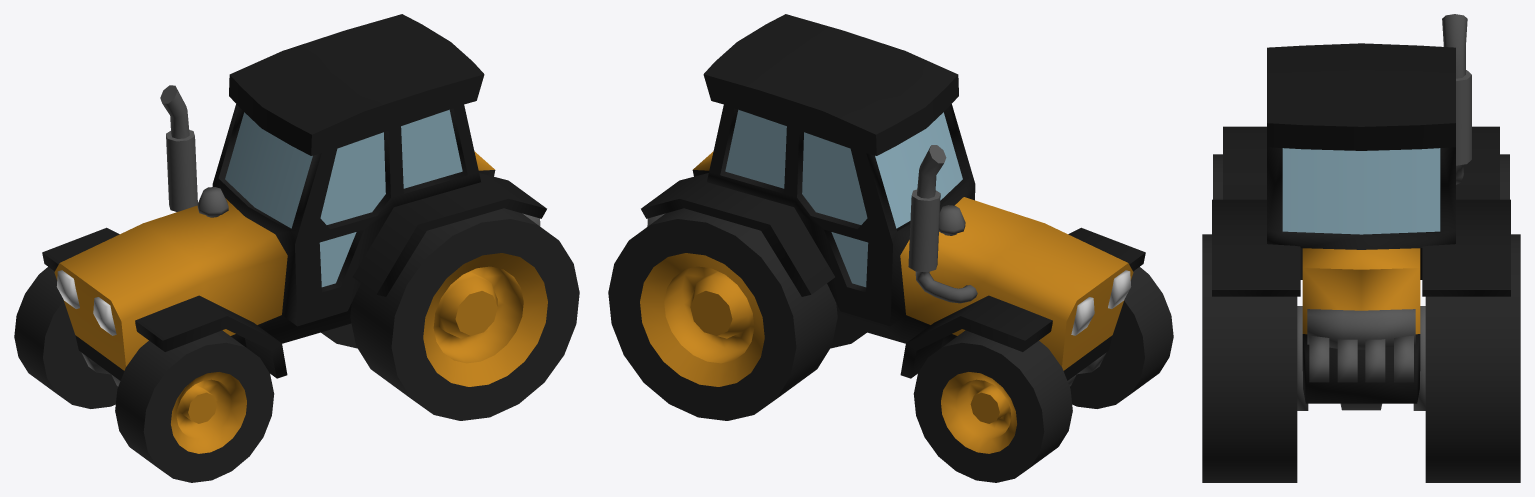
File: field-tractor.lod0.glb
The picture shows the model from 3 angles, left to right: view 1: azimuth 30°, elevation 25°; view 2: azimuth 150°, elevation 25°; view 3: azimuth 270°, elevation 25°; orthographic projection. The views are drawn at different scales.
Parts seen in each view (by area): view 1: Plane_BLACk_0, Plane_gREY_0; view 2: Plane_BLACk_0, Plane_gREY_0; view 3: Plane_BLACk_0, Plane_gREY_0.
Boxes of the visible parts, x1,y1,x2,y2 form: Plane_BLACk_0: (14, 14, 579, 482); Plane_gREY_0: (81, 85, 540, 386); Plane_BLACk_0: (608, 14, 1173, 482); Plane_gREY_0: (647, 145, 1106, 386); Plane_BLACk_0: (1202, 43, 1520, 482); Plane_gREY_0: (1297, 14, 1471, 410).
Bounding box in the file's own units: 4.6 × 3.18 × 2.52.
